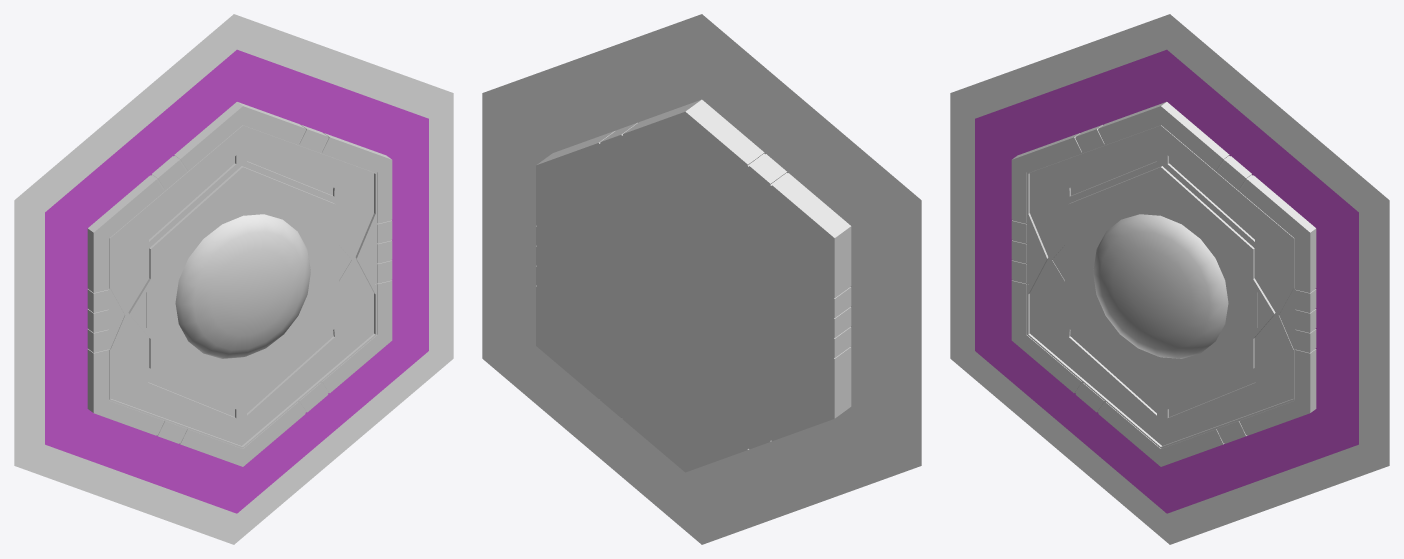
The model's file is TeleporterVIP01_Art.fbx.
3 views of the same model, side by side, from view 1: azimuth 30°, elevation 25°; view 2: azimuth 150°, elevation 25°; view 3: azimuth 330°, elevation 25° (orthographic).
Parts seen in each view (by area): view 1: TeleporterVIP01_Art; view 2: TeleporterVIP01_Art; view 3: TeleporterVIP01_Art.
Part boxes in pixels (bbox=[...]): TeleporterVIP01_Art: bbox=[14, 14, 453, 544]; TeleporterVIP01_Art: bbox=[482, 14, 921, 544]; TeleporterVIP01_Art: bbox=[950, 14, 1389, 544].
Bounding box in the file's own units: 1.73 × 2 × 0.2489.
